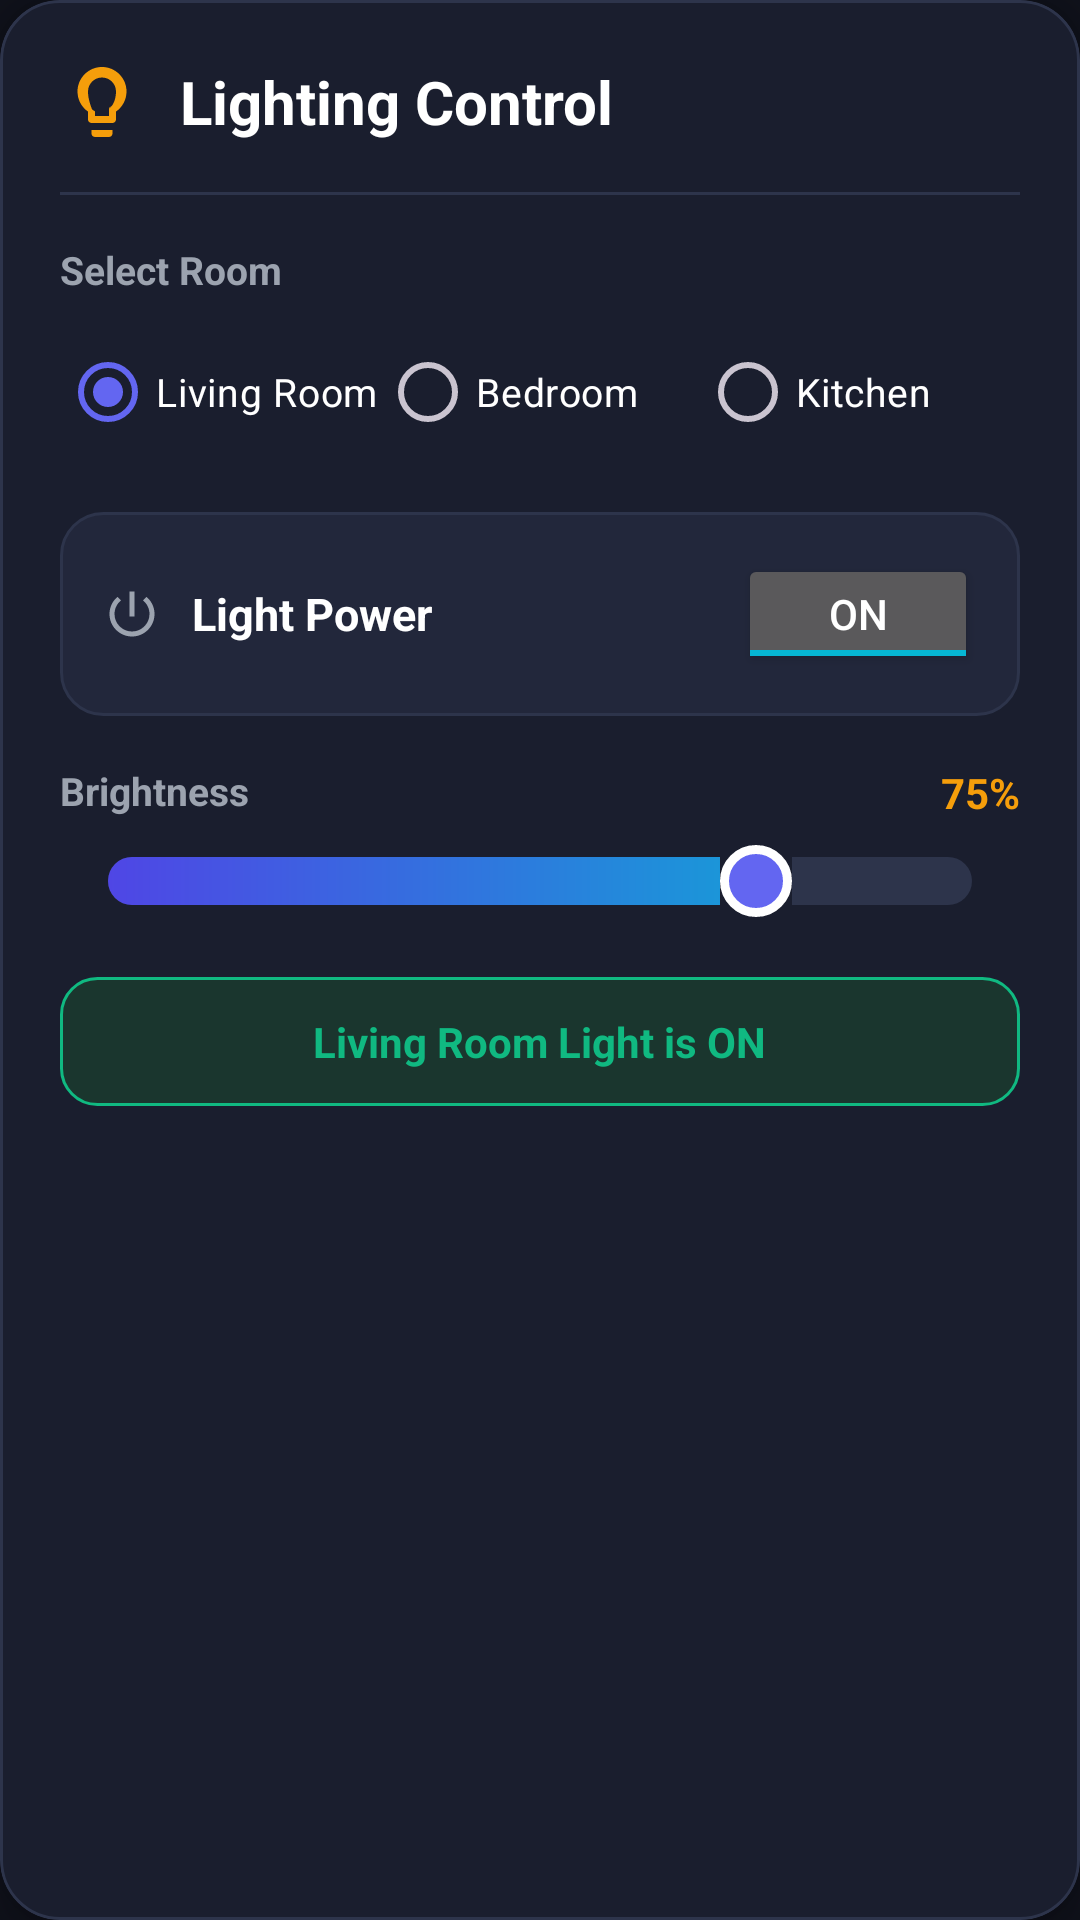

Where icons sit on this 1080×1920 app screen, as region(x1, y1, x2, y2):
lightbulb: region(77, 67, 127, 137)
